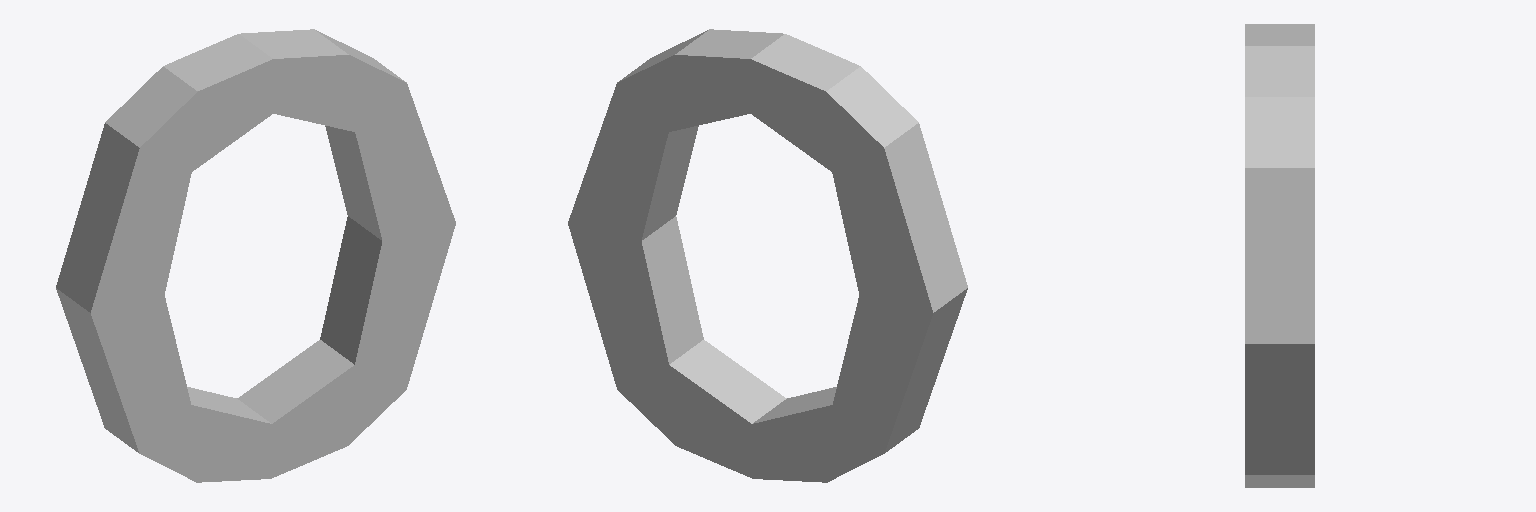
The picture shows the model from 3 angles: view 1: azimuth 30°, elevation 25°; view 2: azimuth 150°, elevation 25°; view 3: azimuth 270°, elevation 25°; orthographic projection.
Parts seen in each view (by area): view 1: v3d.csg; view 2: v3d.csg; view 3: v3d.csg.
Boxes of the visible parts, box(x1,y1,x2,y2) form: v3d.csg: box(56, 29, 455, 482); v3d.csg: box(568, 29, 967, 482); v3d.csg: box(1245, 24, 1314, 487).
Size of the model in its own units: 6.07 by 6.65 by 1.